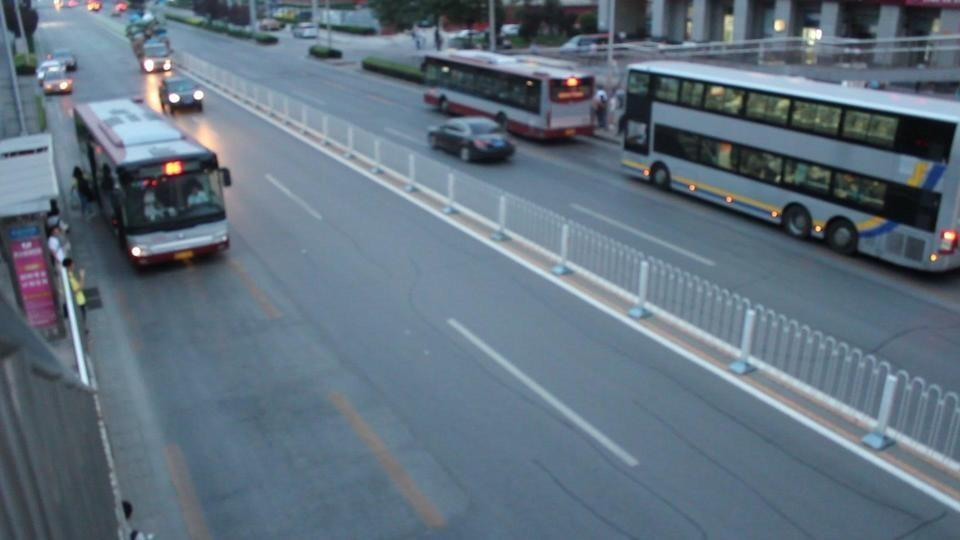car: (427, 117, 516, 164), (160, 75, 205, 114), (135, 33, 175, 75), (556, 34, 625, 55), (36, 62, 78, 95), (43, 48, 78, 74), (290, 22, 319, 40)
